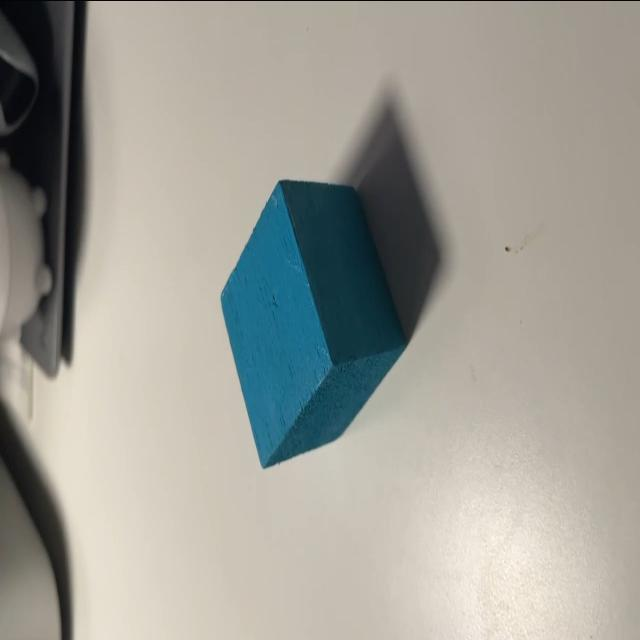blue_block: (217, 162, 403, 480)
